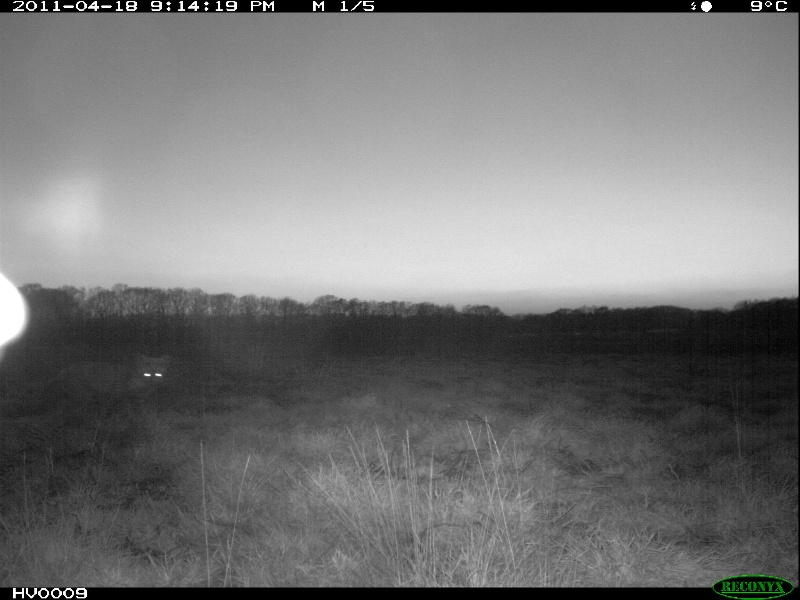fox: (17, 353, 179, 434)
